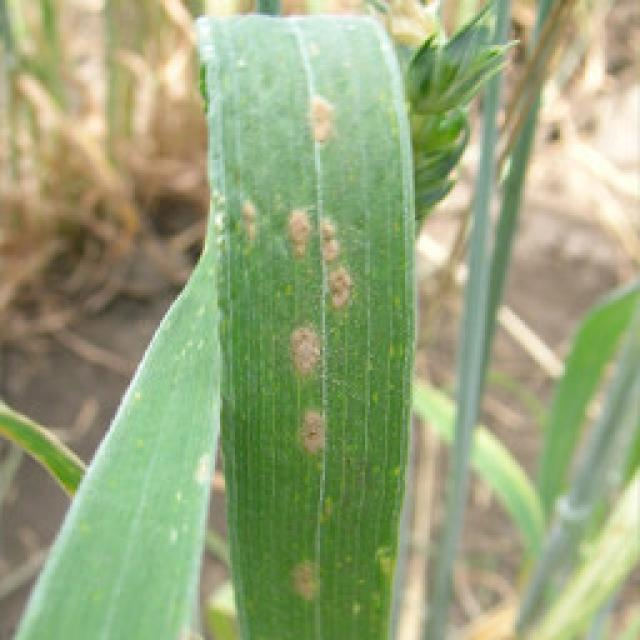wheat-powdery-mildew: (195, 15, 418, 640)
